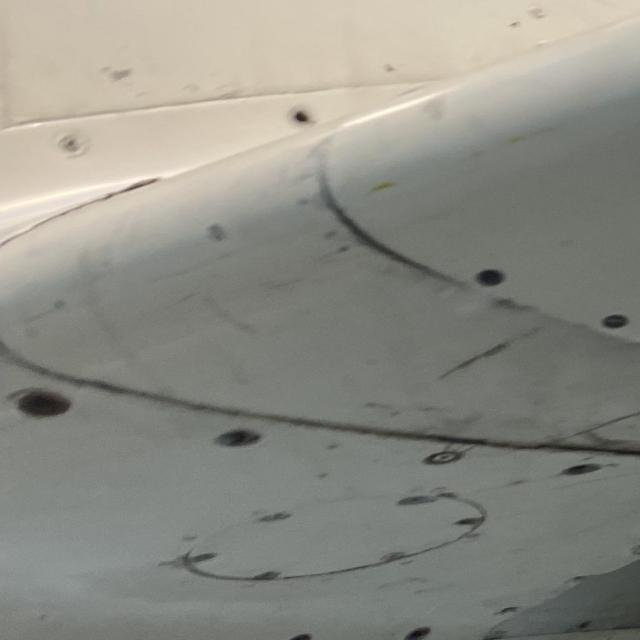Crack: (0, 177, 166, 246)
Missing-head: (13, 390, 67, 418), (213, 428, 258, 449), (472, 268, 503, 288), (559, 463, 601, 477), (600, 314, 627, 329), (402, 628, 432, 640), (289, 634, 312, 640)
Paint-off: (202, 223, 223, 241)
